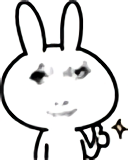dragon: (30, 62, 93, 118)
